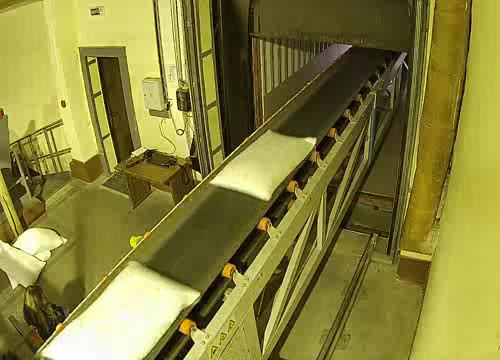bag: (39, 259, 208, 360), (206, 125, 325, 204)
